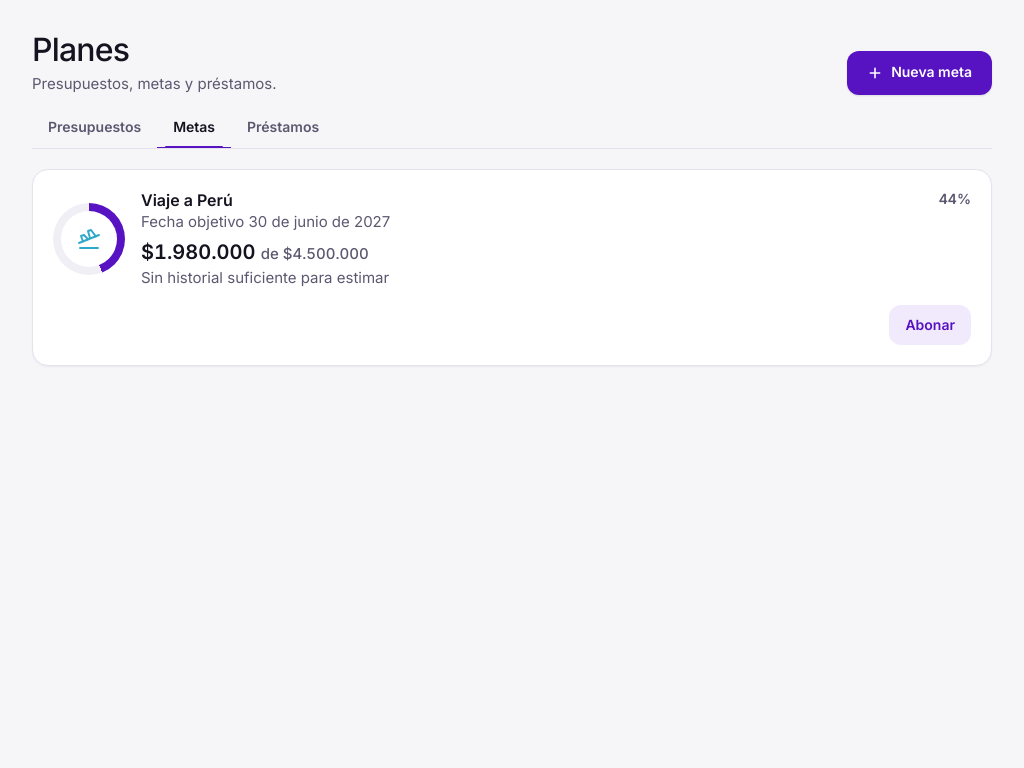
Test: Planes › shows the server's figure when it refuses an abono above what is left
Click the button "Abonar" at (930, 325), box top-left (889, 305), bottom-right (971, 345)
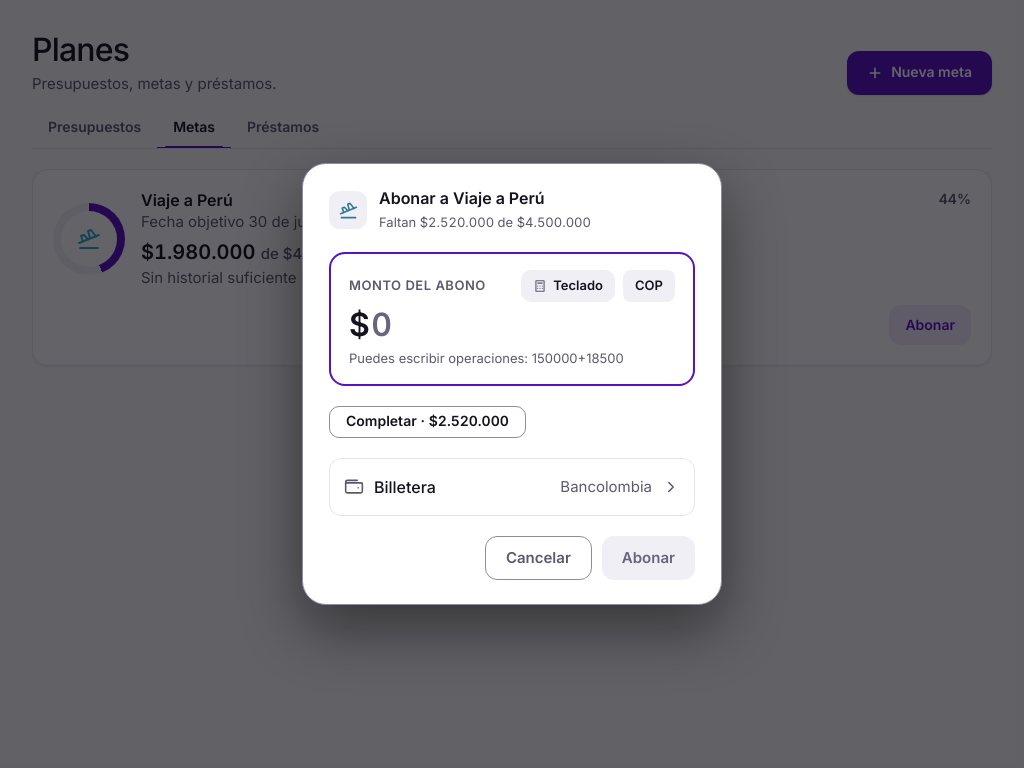
Type "100000" into the field with placeholder "0" at (522, 325), box top-left (369, 306), bottom-right (675, 345)
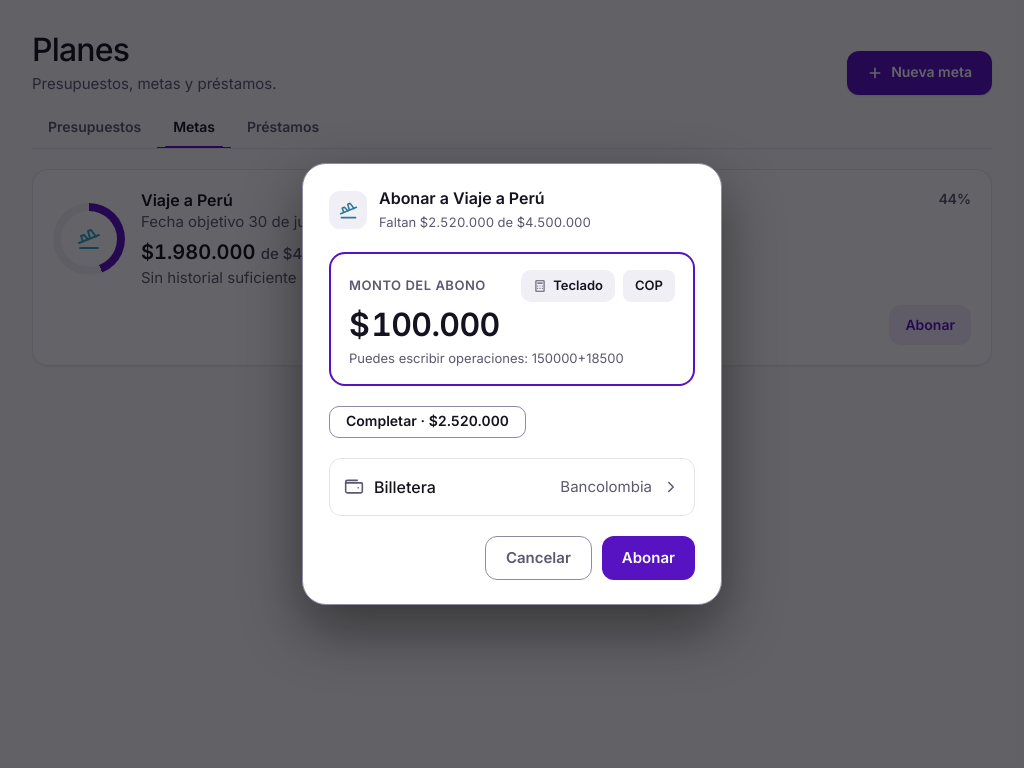
Click the button "Billetera Bancolombia" at (405, 487), box top-left (330, 458), bottom-right (694, 514)
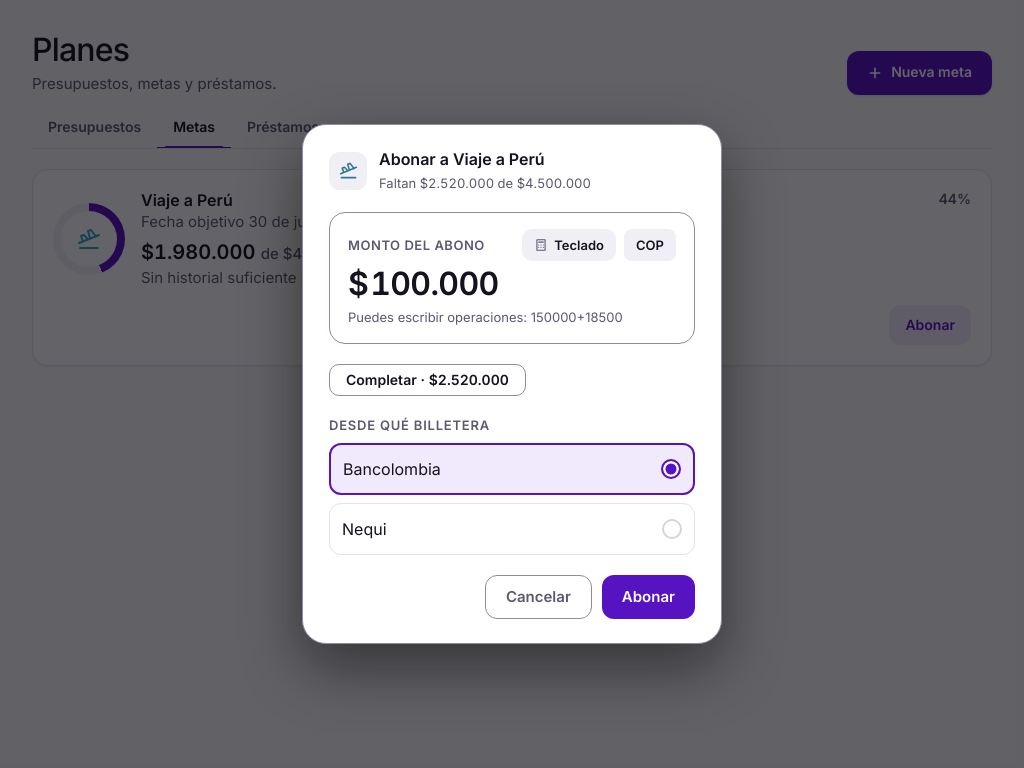
Click the radio button labelled "Nequi" at (364, 529), box top-left (329, 503), bottom-right (695, 555)
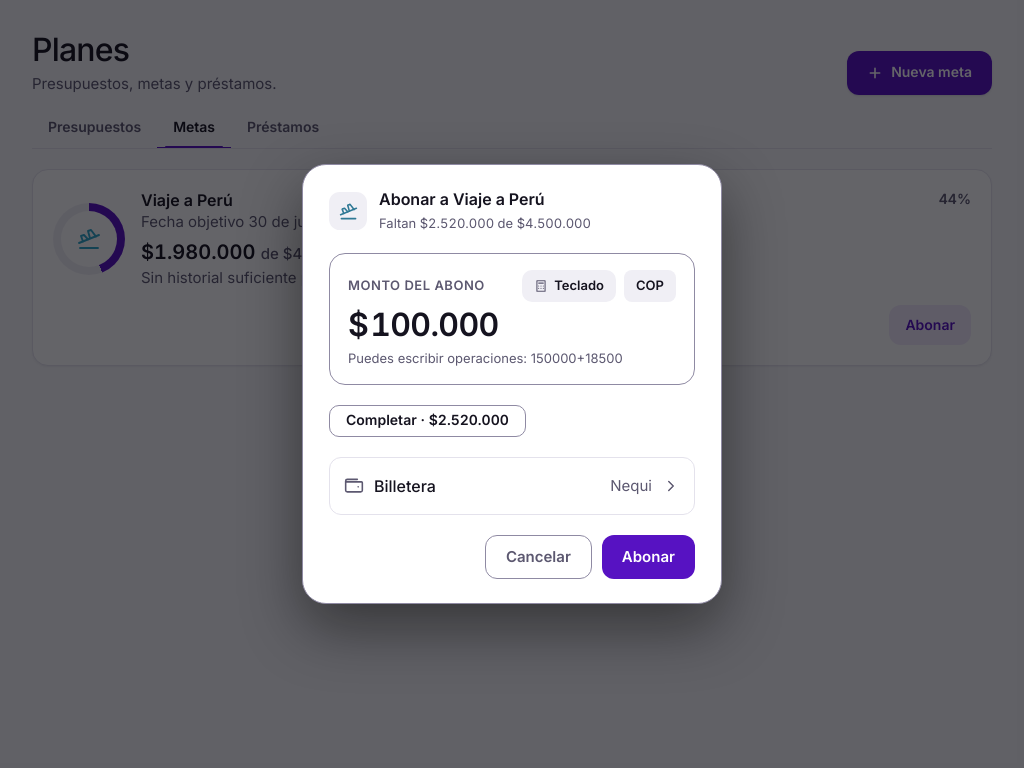
Click the button "Abonar" at (648, 556), box top-left (602, 534), bottom-right (695, 578)
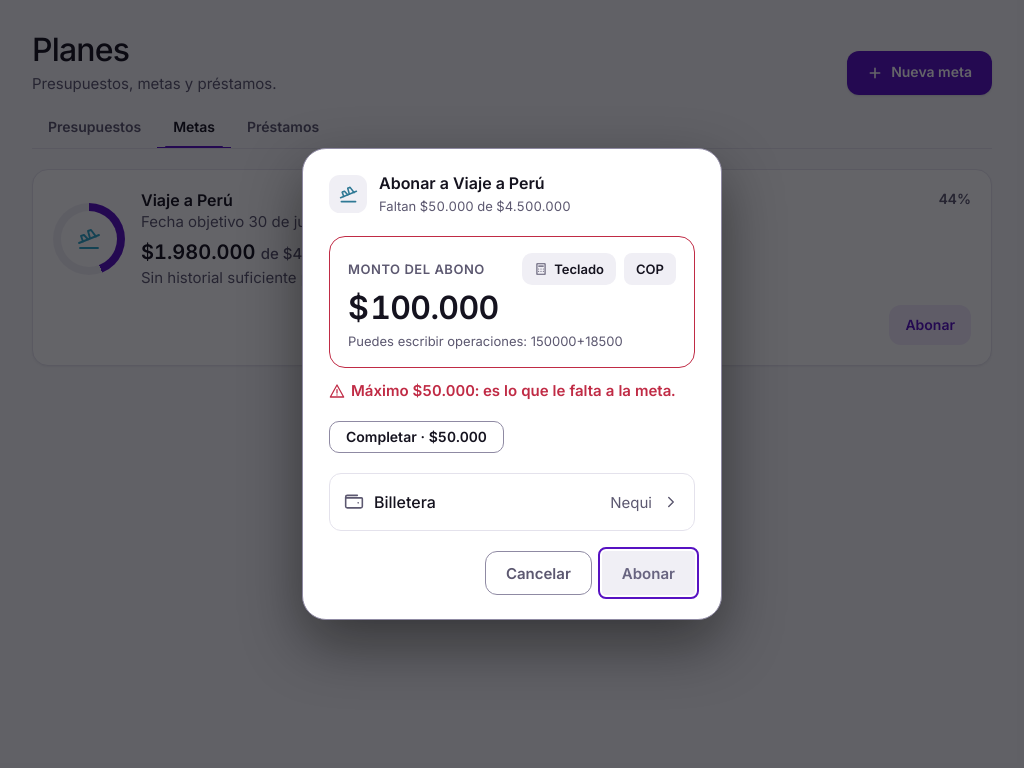
Expected: the message shows "Máximo $50.000", top-left (351, 381), bottom-right (675, 400)
